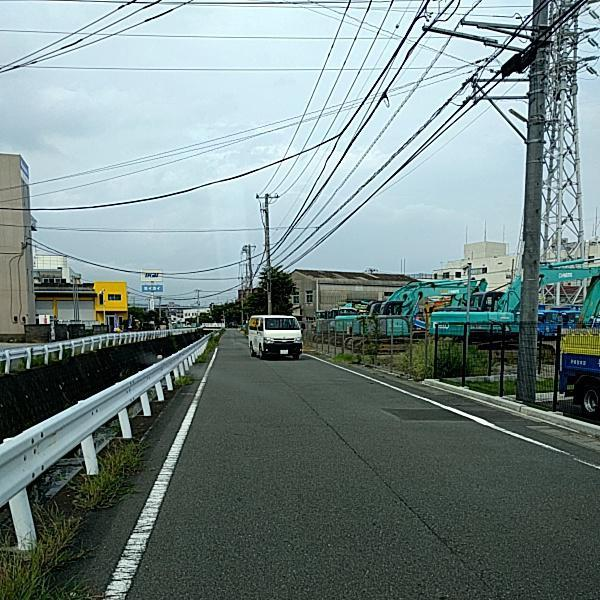D44: (101, 374, 208, 592)
